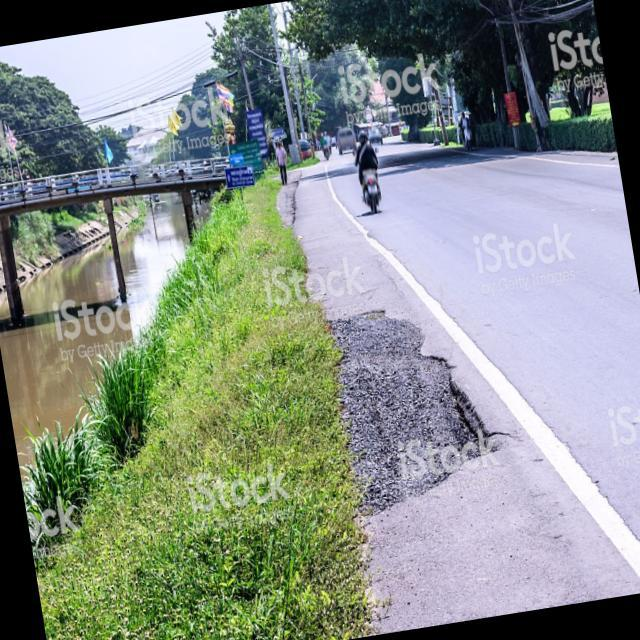Pothole: (338, 298, 497, 512)
